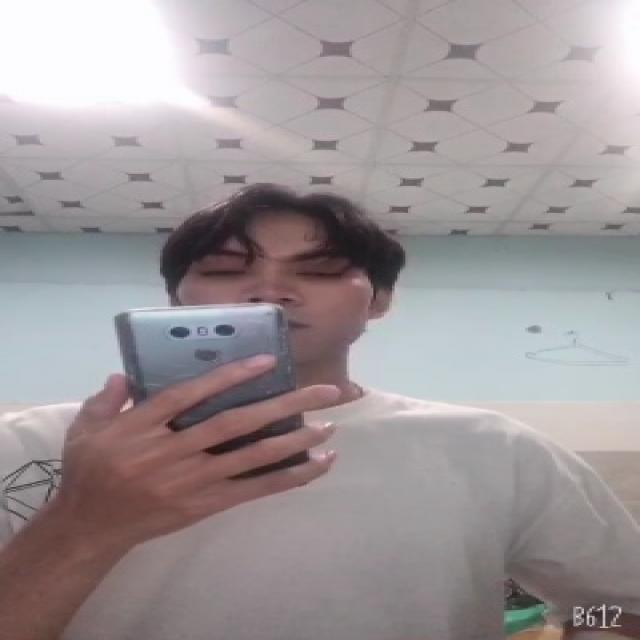Phone: (111, 304, 311, 480)
